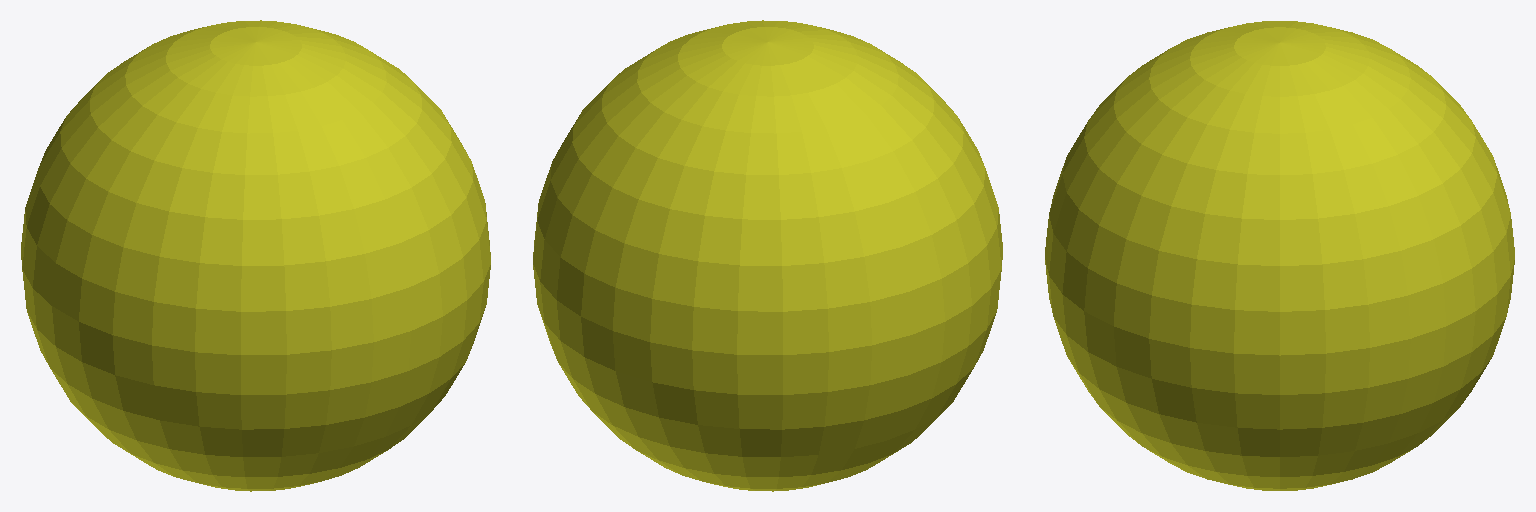
URDF robot description (squareball):
<?xml version="1.0"?>
<robot name="squareball">
  <material name="blockmat">
    <color rgba="0.8 0.8 0.2 1"/>
  </material>

  <link name="origin">
    <contact>
      <lateral_friction value="1.0"/>
      <spinning_friction value=".0001"/>
    </contact>
    <inertial>
      <origin rpy="0 0 0" xyz="0 0 0"/>
      <mass value="0.01"/>
      <inertia ixx="0" ixy="0" ixz="0" iyy="0" iyz="0" izz="0"/>
    </inertial>
    <visual>
      <origin rpy="0 0 0" xyz="0.0 0.0 0.0"/>
      <geometry>
        <sphere radius="0.015"/>
      </geometry>
      <material name="blockmat"/>
    </visual>
    <collision>
      <origin rpy="0 0 0" xyz="0.0 0.0 0.0"/>
      <geometry>
        <box size="0.03 0.01 0.01"/>
      </geometry>
    </collision>
    <collision>
      <origin rpy="0 0 0" xyz="0.0 0.0 0.0"/>
      <geometry>
        <box size="0.01 0.03 0.01"/>
      </geometry>
    </collision>
    <collision>
      <origin rpy="0 0 0" xyz="0.0 0.0 0.0"/>
      <geometry>
        <box size="0.01 0.01 0.03"/>
      </geometry>
    </collision>
  </link>

  

  
</robot>

--- Facts derived from the render (not from the file) ---
Views: 3 orthographic renders of the robot side by side, from view 1: azimuth 30°, elevation 25°; view 2: azimuth 150°, elevation 25°; view 3: azimuth 270°, elevation 25°.
Robot: squareball — 1 links, 0 joints (none); root link origin; default pose: all joints at 0.
Links seen in each view (by area): view 1: origin; view 2: origin; view 3: origin.
Link boxes in pixels (x1,y1,x2,y2): origin: (21,20,490,491); origin: (533,20,1002,491); origin: (1045,21,1514,490).
Bounding box of the posed robot: 0.03 × 0.03 × 0.03 m (x, y, z).
Geometry: primitives only (box / cylinder / sphere), no mesh files.